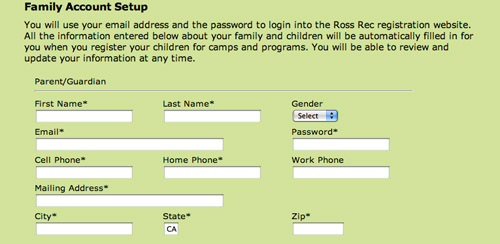_form_: (1, 1, 416, 244)
field: (35, 192, 224, 208), (34, 137, 224, 151), (34, 108, 134, 124), (290, 136, 389, 152), (36, 220, 133, 236), (35, 164, 135, 179), (163, 108, 261, 123), (291, 164, 388, 179), (163, 165, 262, 179), (292, 221, 344, 236), (162, 221, 180, 235)
field_with_label: (34, 183, 226, 209), (33, 128, 226, 151), (33, 155, 136, 180), (33, 100, 134, 125), (162, 99, 262, 124), (34, 212, 133, 237), (289, 129, 390, 153), (162, 156, 263, 180), (289, 156, 389, 180), (289, 211, 345, 237), (290, 100, 339, 123), (161, 212, 190, 236)
select: (293, 109, 337, 122)
